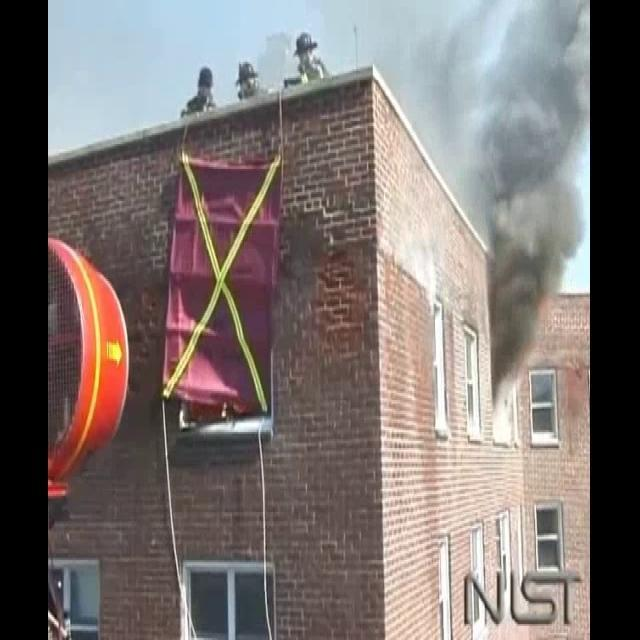Smoke: (321, 0, 506, 287), (487, 0, 589, 415)
